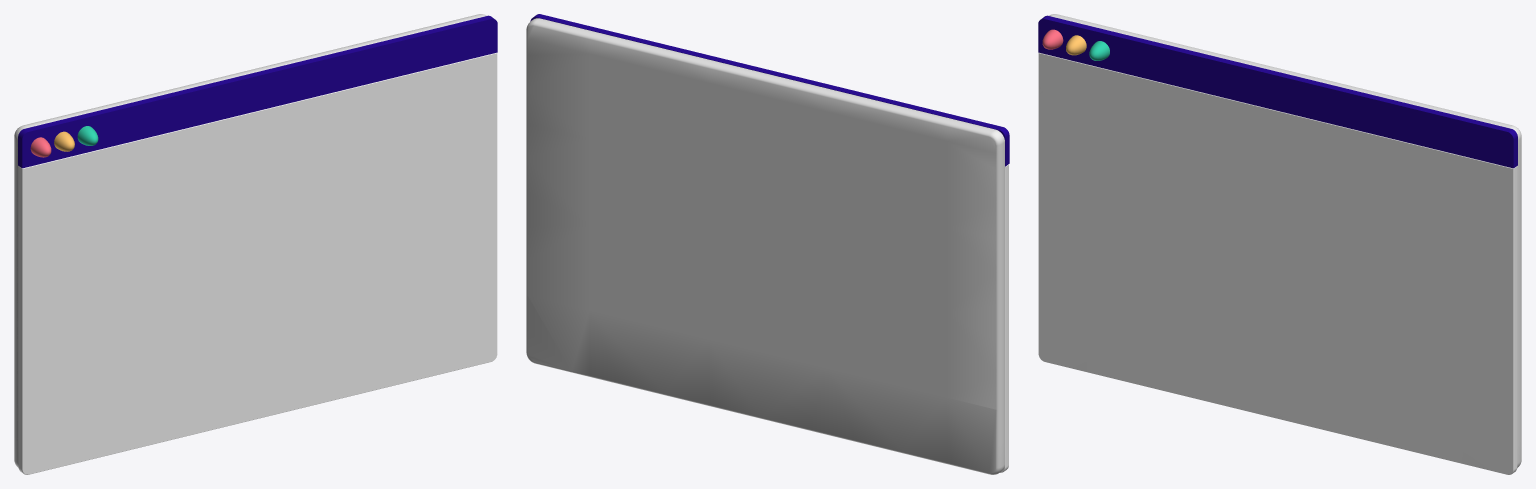
File: window.glb
3 renders of one model, left to right at view 1: azimuth 30°, elevation 25°; view 2: azimuth 150°, elevation 25°; view 3: azimuth 330°, elevation 25°, orthographic.
Visible parts, largest first — view 1: cut-thickness 3 (×2), cut-thickness 2; view 2: cut-thickness 2, cut-thickness 3 (×2); view 3: cut-thickness 3 (×2), cut-thickness 2.
Part boxes in pixels (left/top/right/bottom): cut-thickness 3 (×2): left=18, top=15, right=497, bottom=474; cut-thickness 2: left=14, top=14, right=486, bottom=467; cut-thickness 2: left=526, top=18, right=1004, bottom=474; cut-thickness 3 (×2): left=530, top=14, right=1009, bottom=472; cut-thickness 3 (×2): left=1038, top=15, right=1517, bottom=474; cut-thickness 2: left=1049, top=14, right=1521, bottom=467.
Size of the model in its own units: 0.141 by 0.0973 by 0.0102.
